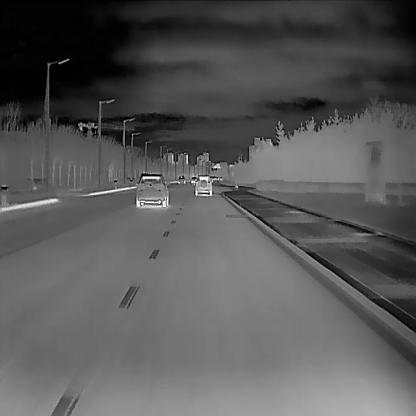car: (134, 173, 168, 207), (195, 174, 212, 196), (178, 174, 186, 184), (190, 176, 198, 184), (209, 175, 213, 181), (212, 176, 216, 180), (218, 176, 222, 180), (216, 176, 219, 180)
